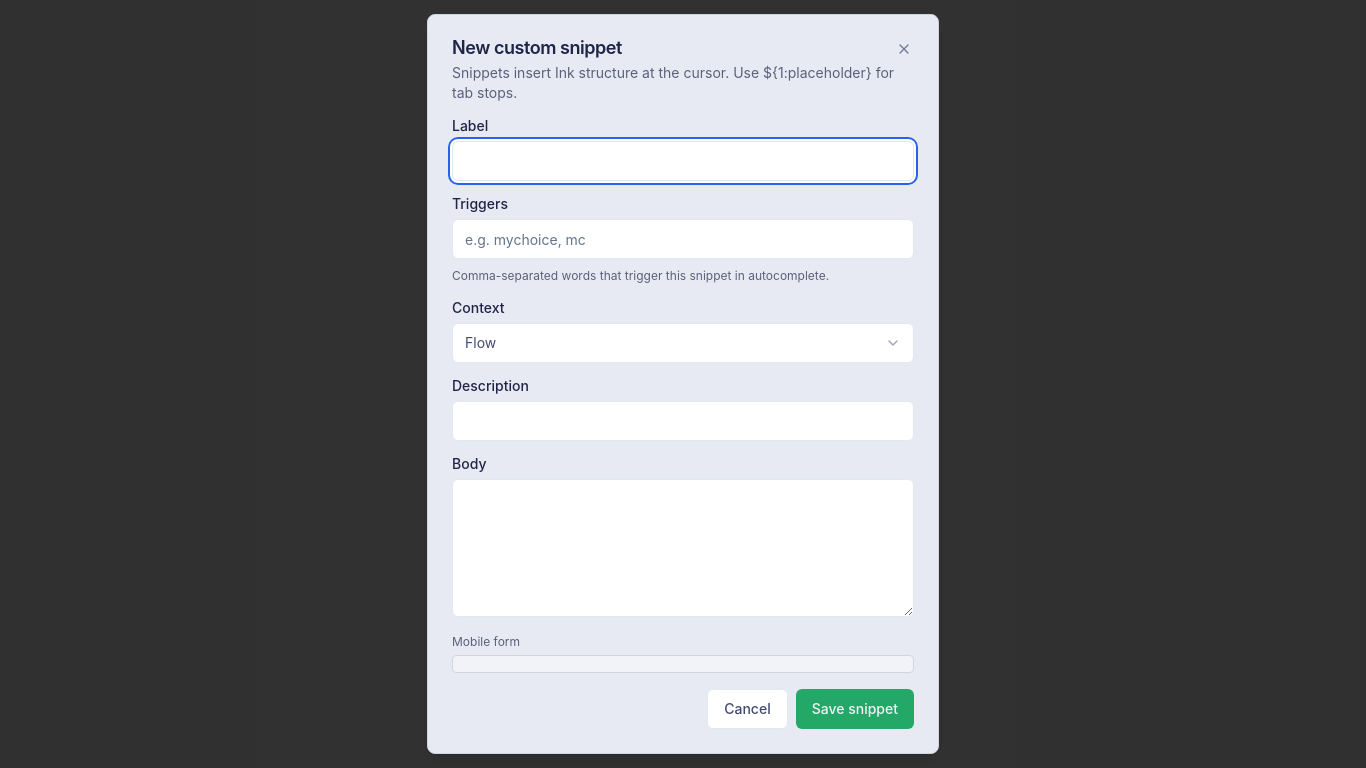
CustomSnippetDialog › shows a validation alert and does not submit when the label is empty
Type "mysnip" into the field labelled "Triggers" at (683, 239), box [452, 219, 914, 259]
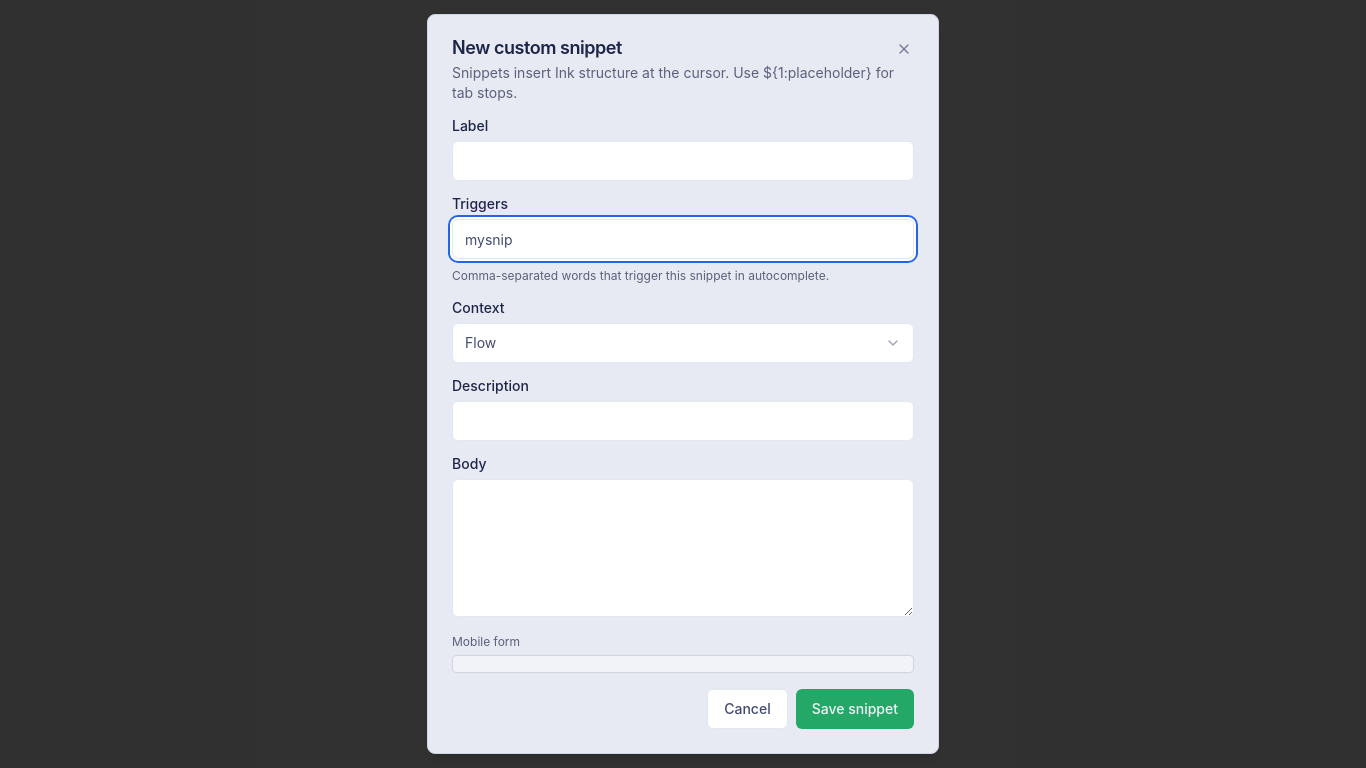
Type "~ my_snip()" into the text box labelled "Body" at (683, 548), box [452, 479, 914, 617]
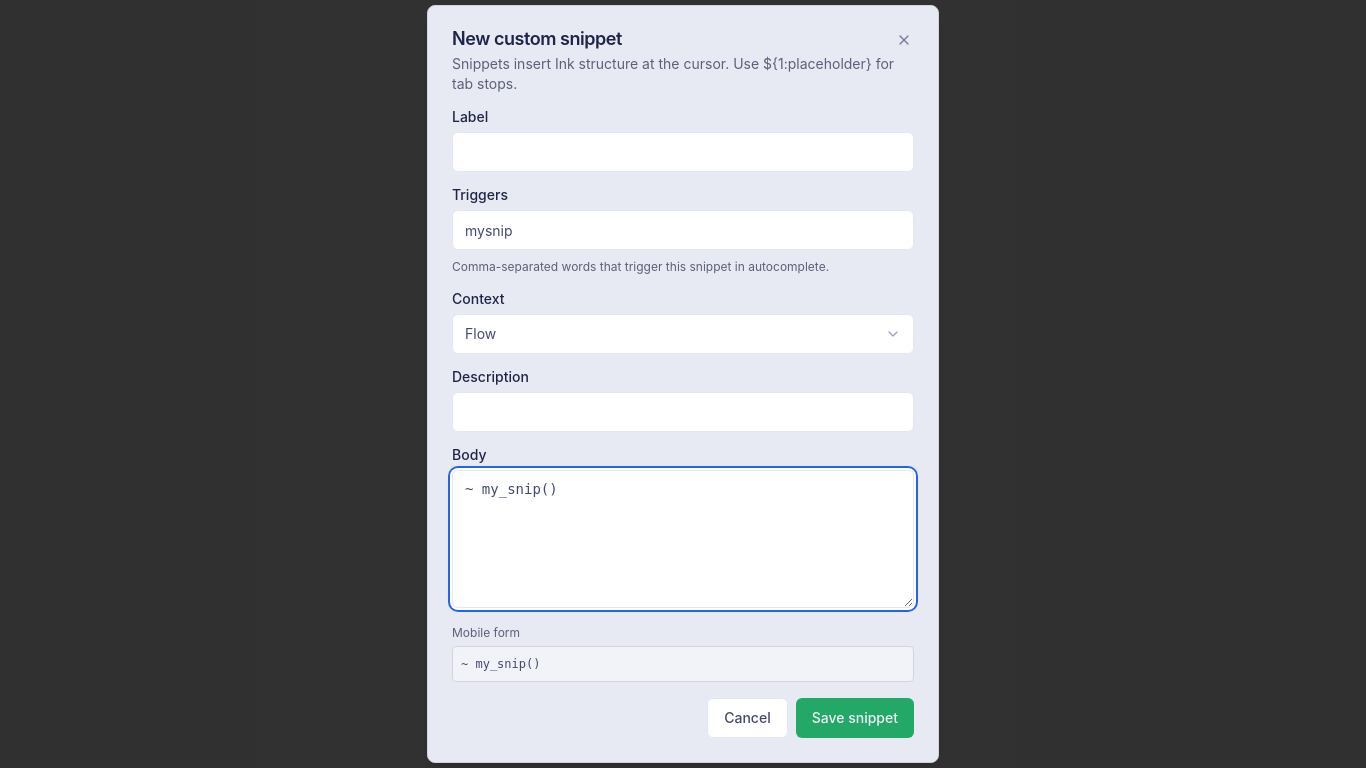
Click the button "Save snippet" at (855, 718), box [796, 698, 914, 738]
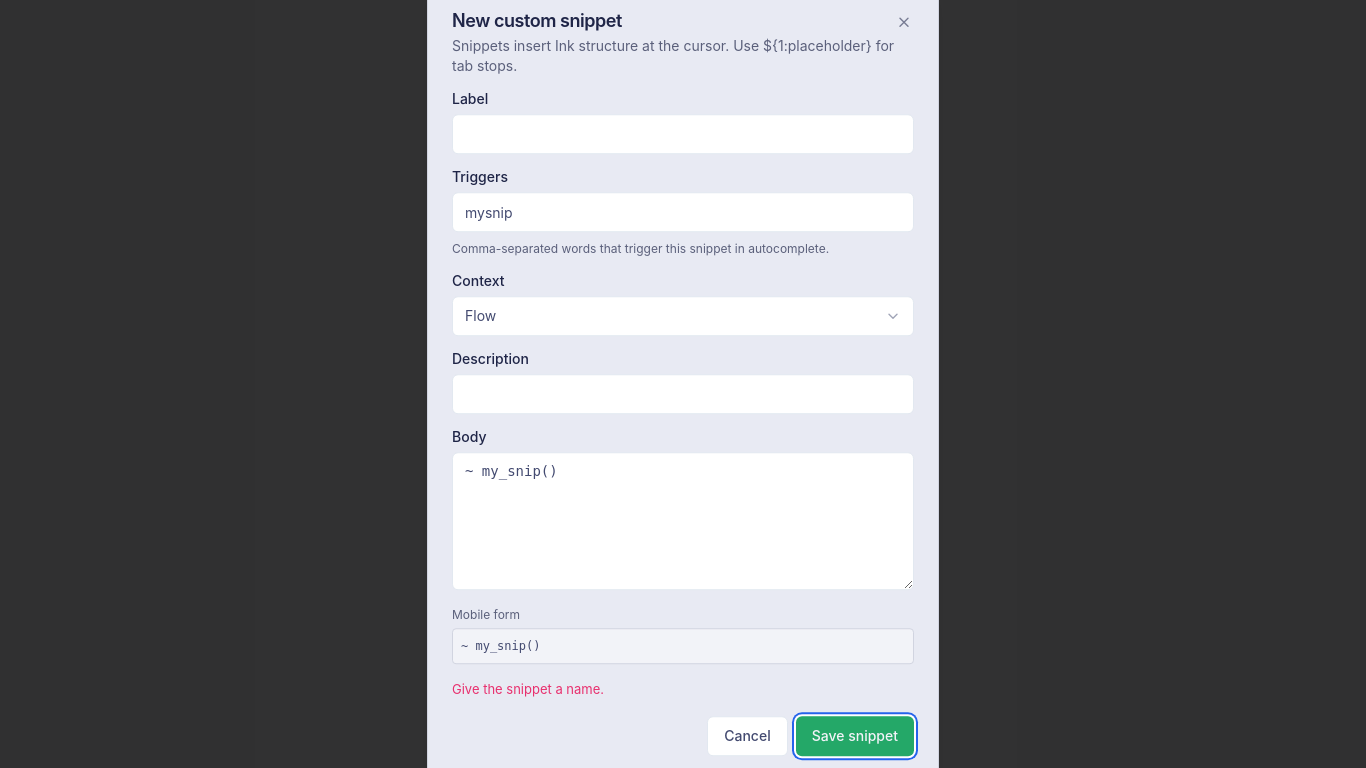
Now the message "Give the snippet a name." is shown, box [452, 681, 604, 697]
